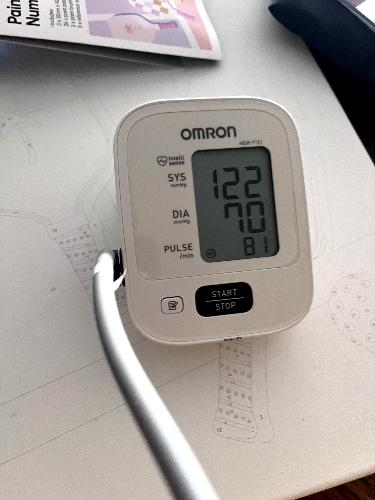bpm: (189, 141, 283, 266)
